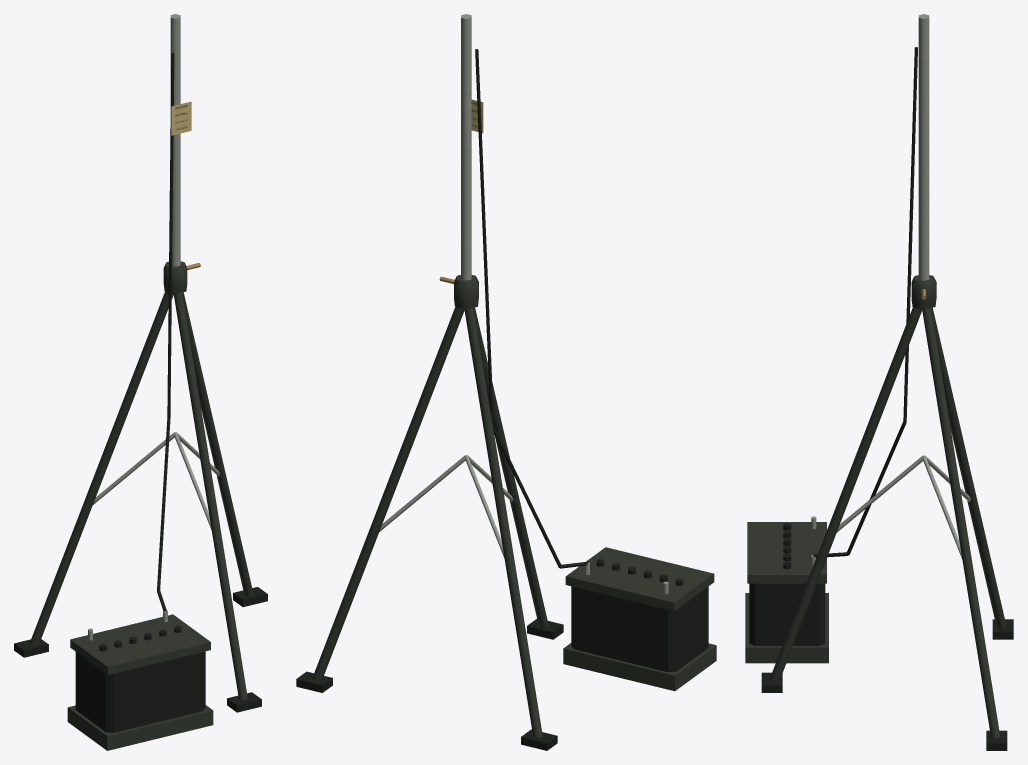
Rendered from SM_FieldKit_LampStand_LOD2.fbx.
3 views of the same model, side by side, from view 1: azimuth 30°, elevation 25°; view 2: azimuth 150°, elevation 25°; view 3: azimuth 270°, elevation 25° (orthographic). The views are drawn at different scales.
Parts seen in each view (by area): view 1: SM_FieldKit_LampStand_LOD2; view 2: SM_FieldKit_LampStand_LOD2; view 3: SM_FieldKit_LampStand_LOD2.
Boxes of the visible parts, x1,y1,x2,y2 form: SM_FieldKit_LampStand_LOD2: [14, 14, 267, 750]; SM_FieldKit_LampStand_LOD2: [296, 14, 716, 750]; SM_FieldKit_LampStand_LOD2: [745, 14, 1013, 750].
Bounding box in the file's own units: 0.881 × 0.7056 × 1.95.
